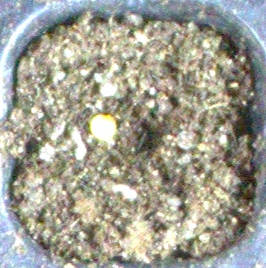pepper seed: (30, 42, 147, 184)
